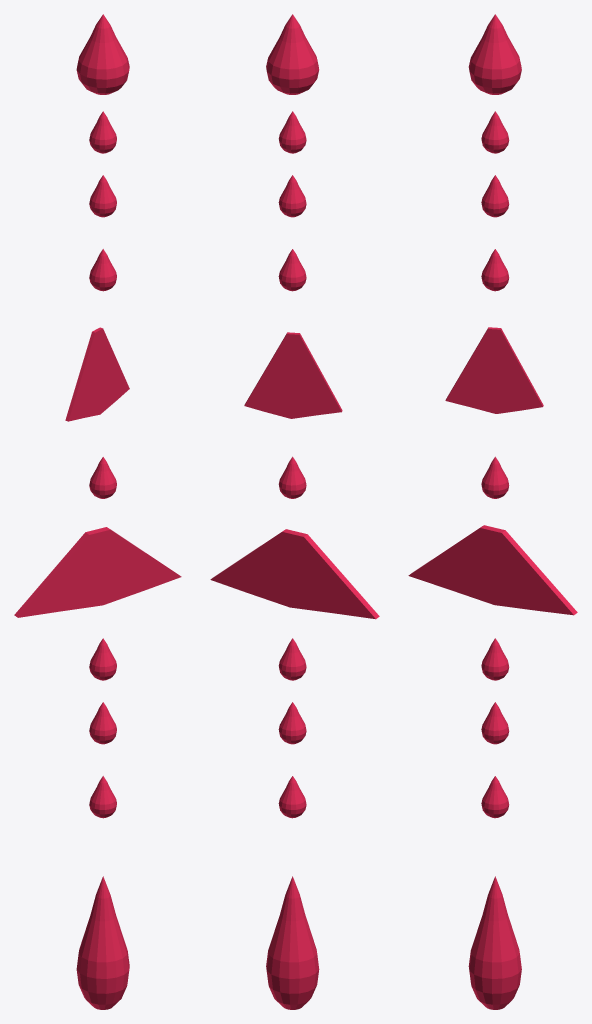
The model's file is amulet06_Mdl_Dec_Z2.fbx.
3 views of the same model, side by side, from view 1: azimuth 30°, elevation 25°; view 2: azimuth 150°, elevation 25°; view 3: azimuth 330°, elevation 25° (orthographic).
Visible parts, largest first — view 1: amulet02.003, Sphere.021, amulet02.002, amulet06, Sphere.019, Sphere.020, Sphere.024, Sphere.025, Sphere.018, Sphere.023, Sphere.026; view 2: amulet02.003, amulet02.002, Sphere.021, amulet06, Sphere.020, Sphere.024, Sphere.019, Sphere.023, Sphere.025, Sphere.018, Sphere.026; view 3: amulet02.003, amulet02.002, Sphere.021, amulet06, Sphere.020, Sphere.023, Sphere.024, Sphere.018, Sphere.026, Sphere.019, Sphere.025.
Boxes of the visible parts, x1,y1,x2,y2 form: amulet02.003: (14, 527, 181, 617); Sphere.021: (76, 876, 129, 1009); amulet02.002: (65, 327, 129, 421); amulet06: (76, 14, 129, 94); Sphere.019: (89, 175, 116, 217); Sphere.020: (89, 111, 116, 153); Sphere.024: (89, 638, 116, 680); Sphere.025: (89, 702, 116, 744); Sphere.018: (89, 249, 116, 291); Sphere.023: (89, 457, 116, 498); Sphere.026: (89, 776, 116, 818); amulet02.003: (210, 529, 379, 619); amulet02.002: (244, 332, 342, 418); Sphere.021: (266, 876, 319, 1009); amulet06: (266, 14, 319, 94); Sphere.020: (278, 111, 306, 153); Sphere.024: (278, 638, 306, 680); Sphere.019: (278, 175, 306, 217); Sphere.023: (278, 456, 306, 498); Sphere.025: (278, 702, 306, 744); Sphere.018: (278, 249, 306, 291); Sphere.026: (278, 776, 306, 818); amulet02.003: (408, 525, 577, 615); amulet02.002: (445, 327, 543, 413); Sphere.021: (468, 876, 521, 1009); amulet06: (468, 14, 521, 94); Sphere.020: (481, 111, 509, 153); Sphere.023: (481, 456, 509, 498); Sphere.024: (481, 638, 509, 680); Sphere.018: (481, 249, 509, 291); Sphere.026: (481, 776, 509, 818); Sphere.019: (481, 175, 509, 217); Sphere.025: (481, 702, 509, 744).
Bounding box in the file's own units: 27.45 × 158 × 7.73.
